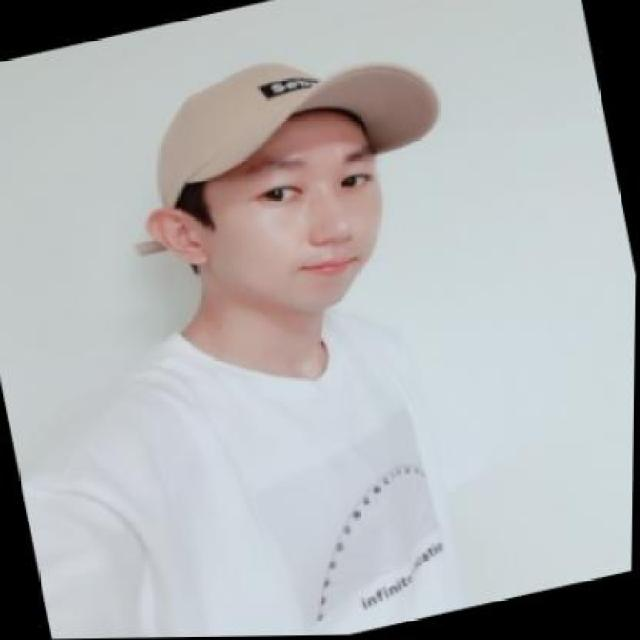hat: (98, 24, 460, 267)
